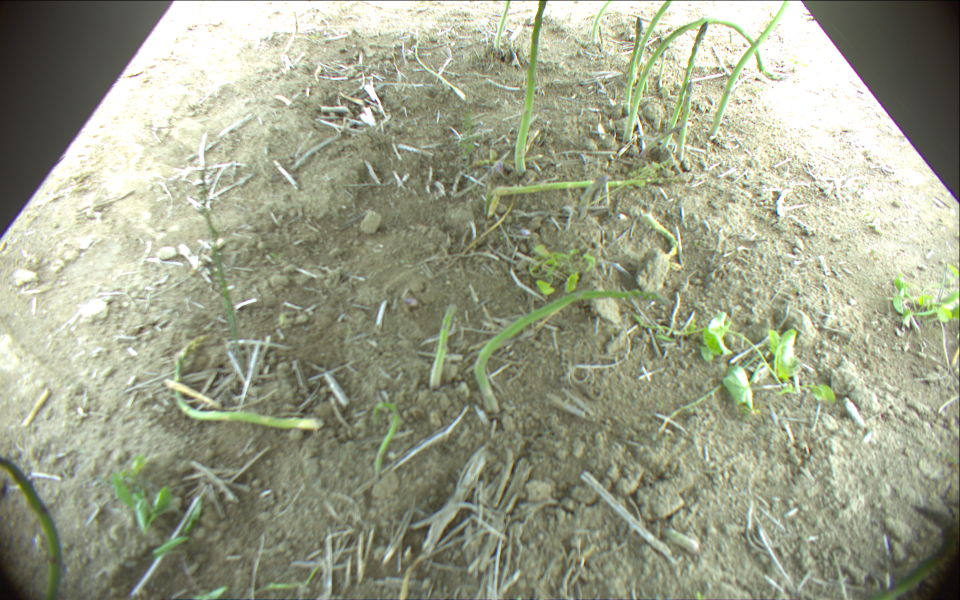aspa: (473, 292, 670, 414), (624, 20, 762, 143), (174, 332, 325, 433), (706, 1, 793, 141), (194, 147, 244, 367), (1, 456, 62, 594), (489, 174, 686, 214), (660, 23, 709, 150), (515, 1, 548, 174), (415, 39, 470, 98), (428, 303, 459, 391), (634, 1, 673, 70), (367, 401, 397, 476), (639, 122, 689, 161), (623, 16, 642, 109), (675, 80, 694, 161), (278, 7, 302, 59), (592, 1, 614, 43), (495, 1, 510, 51), (597, 24, 603, 48)
